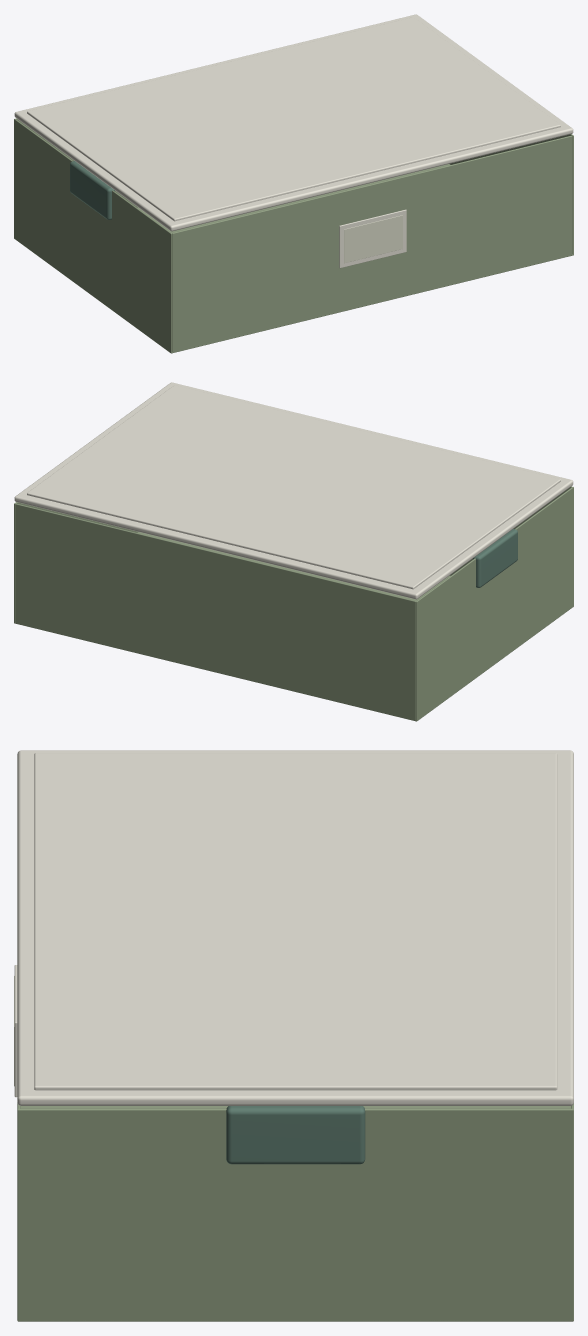
Rendered from stackable-storage.glb.
The picture shows the model from 3 angles, top to bottom: view 1: azimuth 30°, elevation 25°; view 2: azimuth 150°, elevation 25°; view 3: azimuth 270°, elevation 25°; orthographic projection. The views are drawn at different scales.
Visible parts, largest first — view 1: Stacking rim, Storage shell front, Storage shell left, Recessed lid, Identification card, Replaceable end latch, Storage shell floor, Label pocket, Storage shell right; view 2: Stacking rim, Storage shell back, Storage shell left, Recessed lid, Replaceable end latch, Storage shell floor, Storage shell right; view 3: Stacking rim, Storage shell right, Recessed lid, Replaceable end latch.001, Storage shell floor.
Boxes of the visible parts, <box> form: Stacking rim: <box>27,17,560,221</box>; Storage shell front: <box>172,135,572,352</box>; Storage shell left: <box>14,119,172,353</box>; Recessed lid: <box>14,14,573,231</box>; Identification card: <box>344,215,402,263</box>; Replaceable end latch: <box>70,161,114,219</box>; Storage shell floor: <box>14,164,573,353</box>; Label pocket: <box>339,209,406,268</box>; Storage shell right: <box>449,134,573,254</box>; Stacking rim: <box>27,385,560,589</box>; Storage shell back: <box>15,503,415,720</box>; Storage shell left: <box>415,487,573,720</box>; Recessed lid: <box>14,382,573,599</box>; Replaceable end latch: <box>473,529,517,587</box>; Storage shell floor: <box>14,532,573,721</box>; Storage shell right: <box>14,502,138,623</box>; Stacking rim: <box>34,753,557,1090</box>; Storage shell right: <box>17,1108,573,1320</box>; Recessed lid: <box>17,750,573,1105</box>; Replaceable end latch.001: <box>226,1106,365,1164</box>; Storage shell floor: <box>17,1106,573,1321</box>.
Bounding box in the file's own units: 0.6 × 0.18 × 0.4.
